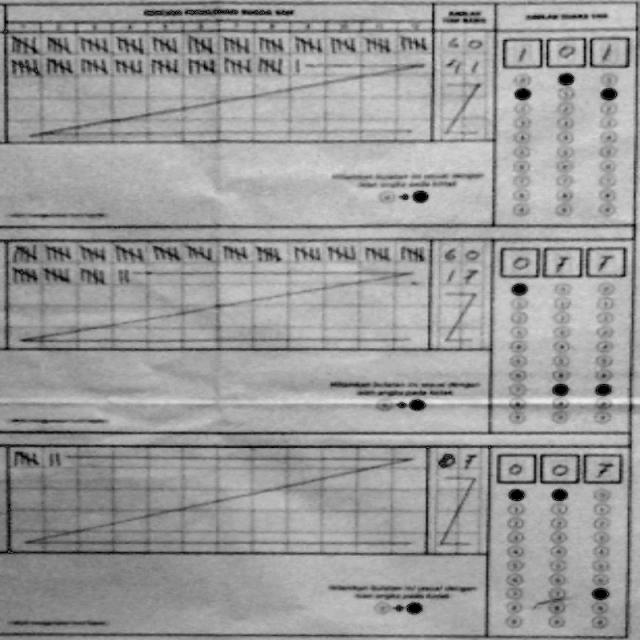Suara: (502, 37, 630, 70), (496, 245, 624, 278), (496, 453, 624, 482)
